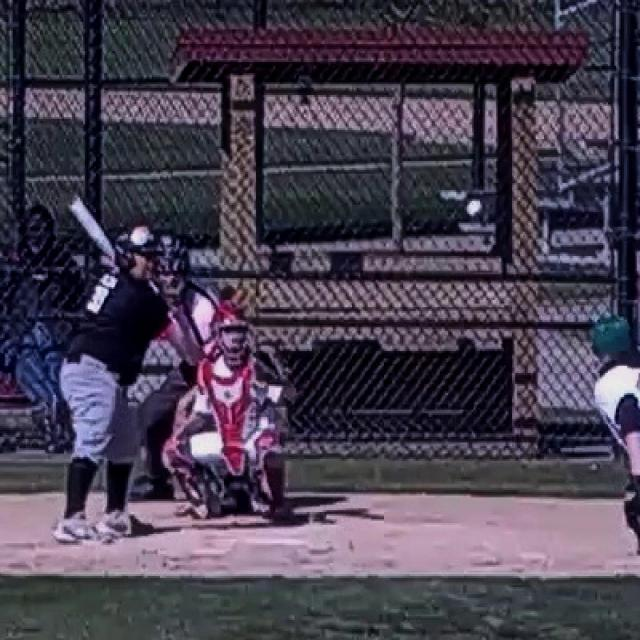baseball: (467, 201, 481, 215)
